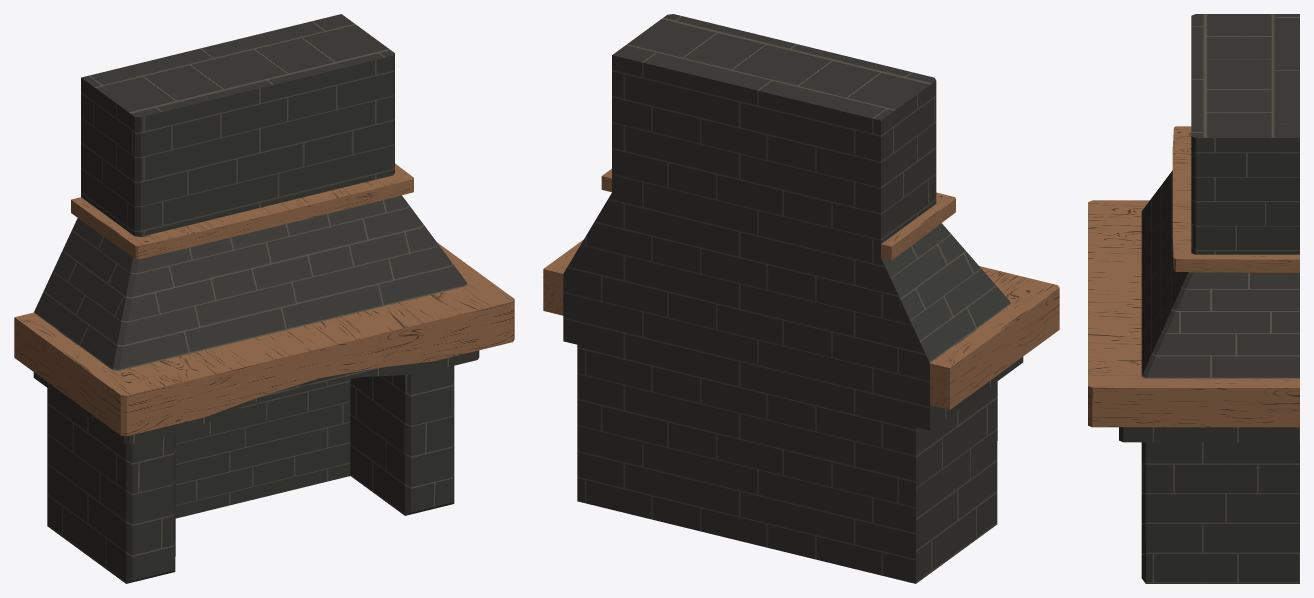
Rendered from fireplace.fbx.
3 renders of one model, left to right at view 1: azimuth 30°, elevation 25°; view 2: azimuth 150°, elevation 25°; view 3: azimuth 270°, elevation 25°, orthographic. The views are drawn at different scales.
Parts seen in each view (by area): view 1: geo_fireplaceBrickWarm; view 2: geo_fireplaceBrickWarm; view 3: geo_fireplaceBrickWarm.
Boxes of the visible parts, <box> form: geo_fireplaceBrickWarm: <box>14,14,514,583</box>; geo_fireplaceBrickWarm: <box>543,14,1059,583</box>; geo_fireplaceBrickWarm: <box>1088,14,1299,583</box>.
Bounding box in the file's own units: 841 × 898 × 401.
Materials: 2 (2 with a texture image).
